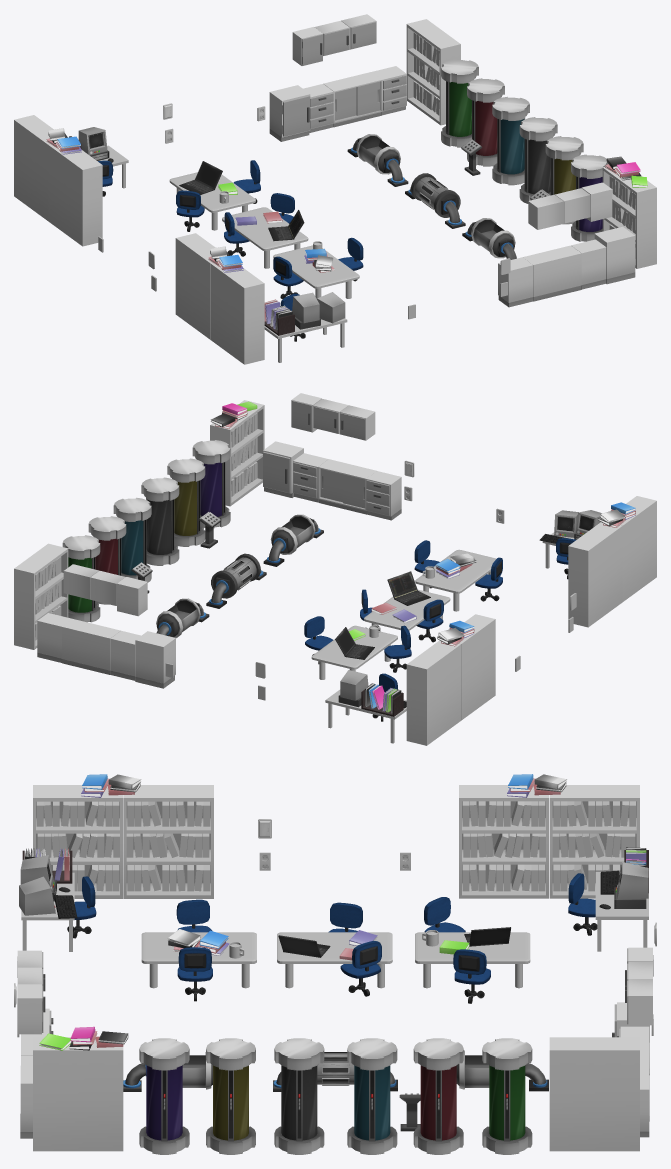
File: Room03Set0.FBX
The picture shows the model from 3 angles, top to bottom: view 1: azimuth 30°, elevation 25°; view 2: azimuth 150°, elevation 25°; view 3: azimuth 270°, elevation 25°; orthographic projection. The views are drawn at different scales.
Parts seen in each view (by area): view 1: bookshelf034, bookshelf036, bookshelf033, bookshelf035, bookshelf032, object061, bookshelf031, object060, chestbox023, object056, object059, ChamferBox019 (+36 smaller); view 2: bookshelf035, bookshelf033, bookshelf032, bookshelf036, bookshelf034, object056, object055, chestbox048, object057, bookshelf031, object061, chestbox051 (+35 smaller); view 3: bookshelf032, bookshelf031, Books016, Books013, bookshelf033, bookshelf036, Books014, Books015, object059, object060, object056, object057 (+30 smaller).
Part boxes in pixels (<box>): bookshelf034: <box>210,262,264,364</box>; bookshelf036: <box>48,144,102,246</box>; bookshelf033: <box>175,233,215,339</box>; bookshelf035: <box>14,115,53,220</box>; bookshelf032: <box>406,19,460,125</box>; object061: <box>492,96,529,185</box>; bookshelf031: <box>602,167,656,268</box>; object060: <box>441,59,478,147</box>; chestbox023: <box>523,245,581,301</box>; object056: <box>519,117,557,203</box>; object059: <box>467,78,504,166</box>; ChamferBox019: <box>273,245,359,298</box>; bookshelf035: <box>406,640,460,745</box>; bookshelf033: <box>568,522,622,627</box>; bookshelf032: <box>14,543,68,649</box>; bookshelf036: <box>459,614,495,720</box>; bookshelf034: <box>620,496,656,601</box>; object056: <box>141,477,179,565</box>; object055: <box>167,458,205,546</box>; chestbox048: <box>62,619,120,674</box>; object057: <box>192,440,230,528</box>; bookshelf031: <box>210,400,264,506</box>; object061: <box>113,497,151,582</box>; chestbox051: <box>135,631,175,688</box>; bookshelf032: <box>549,1037,639,1151</box>; bookshelf031: <box>33,1037,123,1151</box>; Books016: <box>462,801,545,891</box>; Books013: <box>126,801,210,891</box>; bookshelf033: <box>123,785,213,898</box>; bookshelf036: <box>459,785,548,898</box>; Books014: <box>36,801,119,891</box>; Books015: <box>552,801,635,891</box>; object059: <box>413,1038,463,1154</box>; object060: <box>482,1038,532,1154</box>; object056: <box>274,1038,324,1154</box>; object057: <box>139,1038,189,1154</box>.
Size of the model in its own units: 119 by 25.89 by 120.
